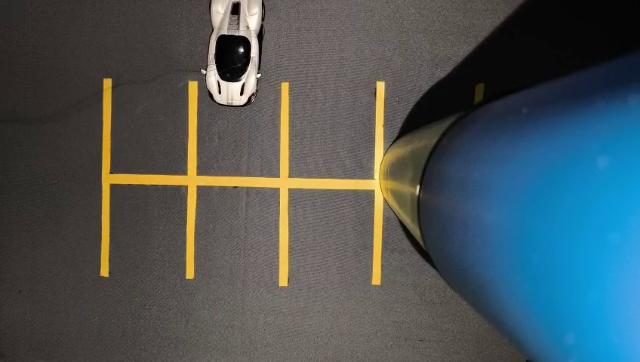toy_car: (182, 0, 321, 118)
